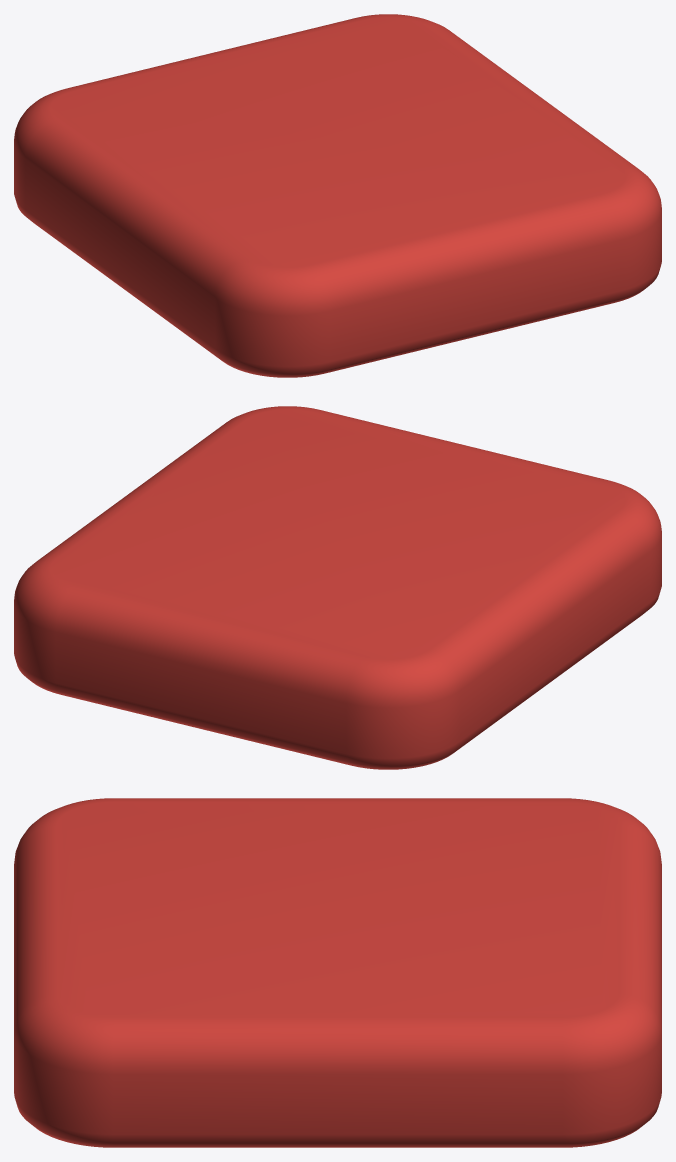
File: tile.glb
3 views of the same model, one above another, from view 1: azimuth 30°, elevation 25°; view 2: azimuth 150°, elevation 25°; view 3: azimuth 270°, elevation 25° (orthographic). The views are drawn at different scales.
Parts seen in each view (by area): view 1: Tile; view 2: Tile; view 3: Tile.
Part boxes in pixels (x1,y1,x2,y2): Tile: (14, 14, 661, 377); Tile: (14, 406, 661, 769); Tile: (14, 798, 661, 1147).
Size of the model in its own units: 0.9 by 0.2 by 0.98.
